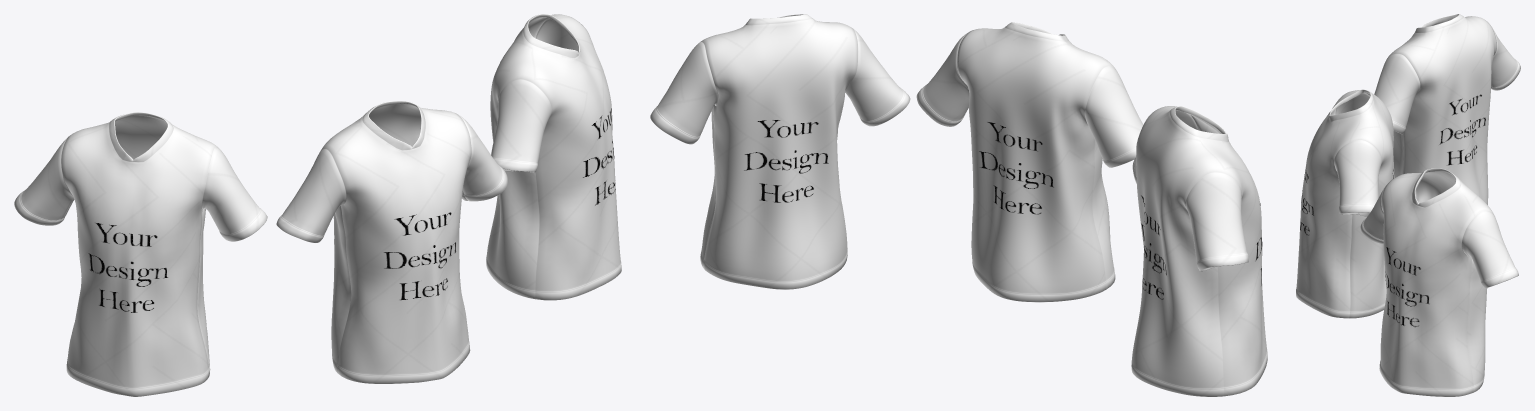
Rendered from T-shirt A-6.glb.
The picture shows the model from 3 angles, left to right: view 1: azimuth 30°, elevation 25°; view 2: azimuth 150°, elevation 25°; view 3: azimuth 270°, elevation 25°; orthographic projection. The views are drawn at different scales.
Parts seen in each view (by area): view 1: T-shirt procedural texture.002, T-shirt procedural texture, T-shirt procedural texture.001; view 2: T-shirt procedural texture.001, T-shirt procedural texture, T-shirt procedural texture.002; view 3: T-shirt procedural texture.001, T-shirt procedural texture, T-shirt procedural texture.002.
Part boxes in pixels (left/top/right/bottom): T-shirt procedural texture.002: left=14, top=112, right=267, bottom=396; T-shirt procedural texture: left=276, top=101, right=507, bottom=383; T-shirt procedural texture.001: left=486, top=14, right=621, bottom=300; T-shirt procedural texture.001: left=650, top=14, right=910, bottom=289; T-shirt procedural texture: left=916, top=22, right=1143, bottom=302; T-shirt procedural texture.002: left=1131, top=106, right=1267, bottom=396; T-shirt procedural texture.001: left=1360, top=168, right=1518, bottom=396; T-shirt procedural texture: left=1296, top=89, right=1394, bottom=318; T-shirt procedural texture.002: left=1374, top=14, right=1520, bottom=204.
Size of the model in its own units: 1.74 by 0.7167 by 0.733.
1 material, 1 textured.
